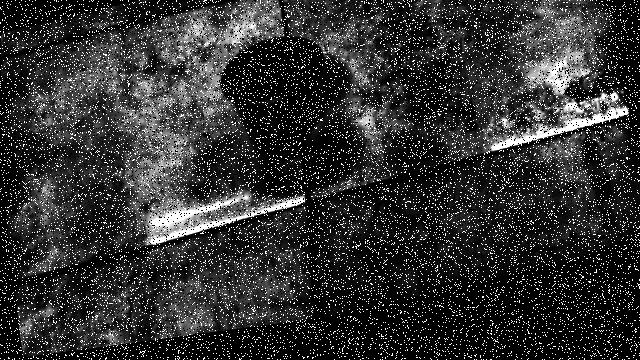pot: (222, 38, 324, 145)
